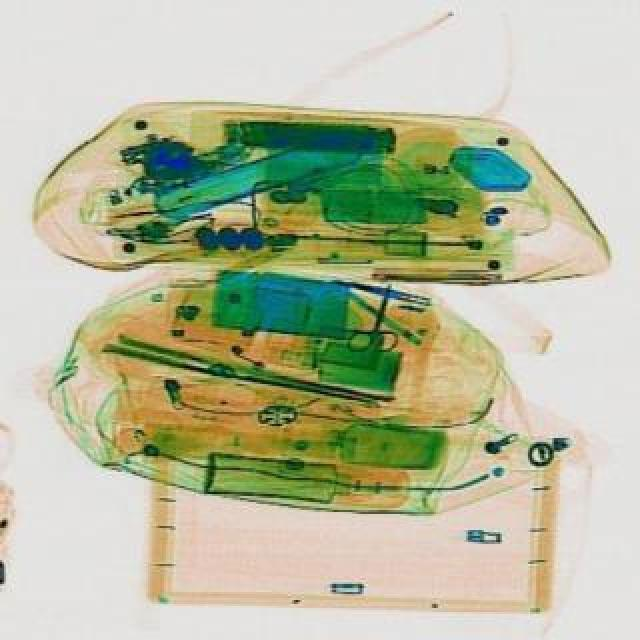pliers: (350, 282, 418, 362)
